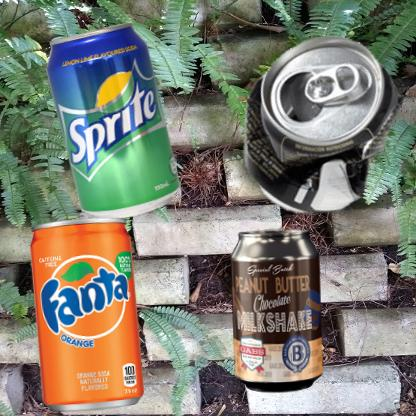lata: (10, 10, 226, 249), (213, 10, 416, 259), (10, 213, 167, 416), (213, 213, 341, 412)
